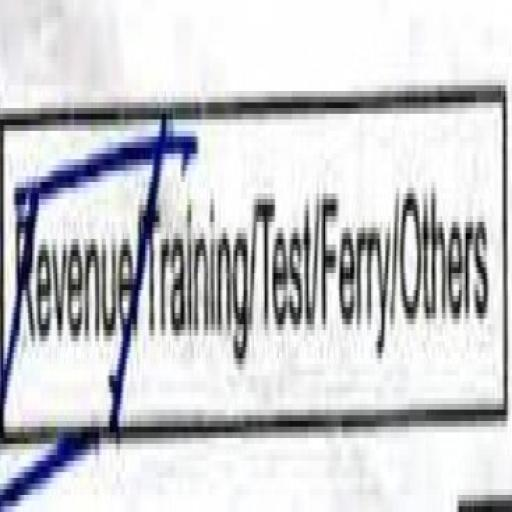check: (0, 0, 140, 512)
